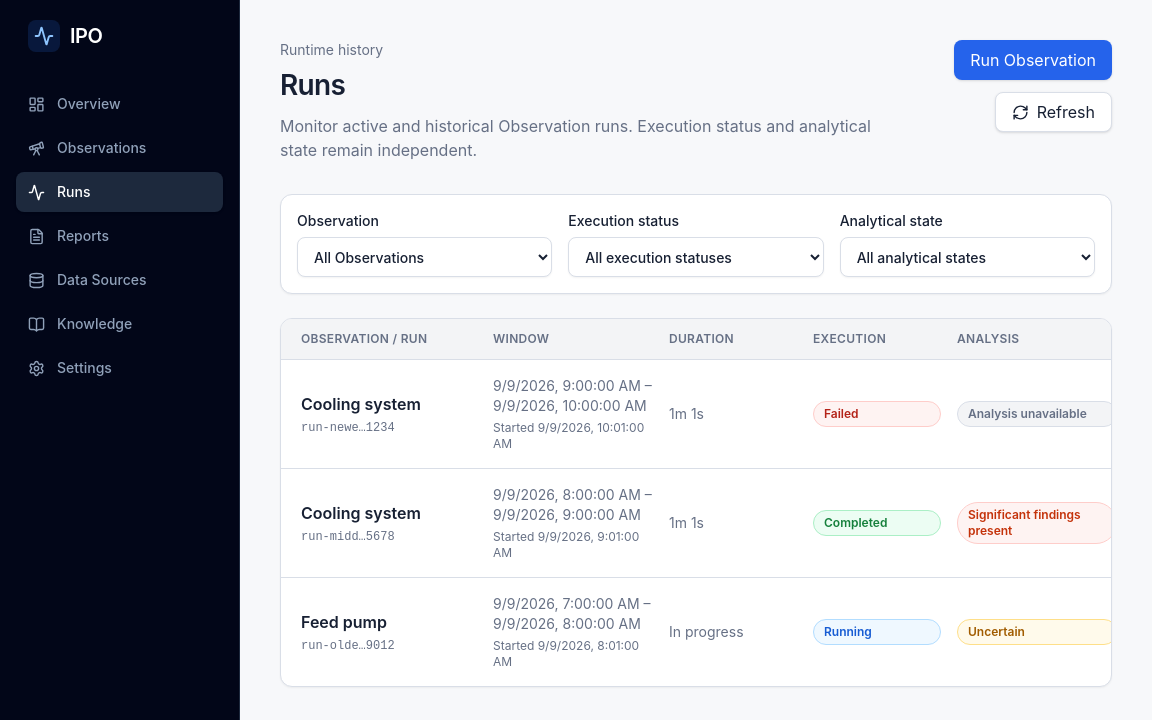
it: RunsPage › combines all filters while retaining API order and offers one clear-all action
Expected: the list named "Observation runs" is shown, [281,360,1111,686]
Select "Cooling system" in the dropdown named "Filter by Observation". click: (425, 257)
box: [297,237,552,277]
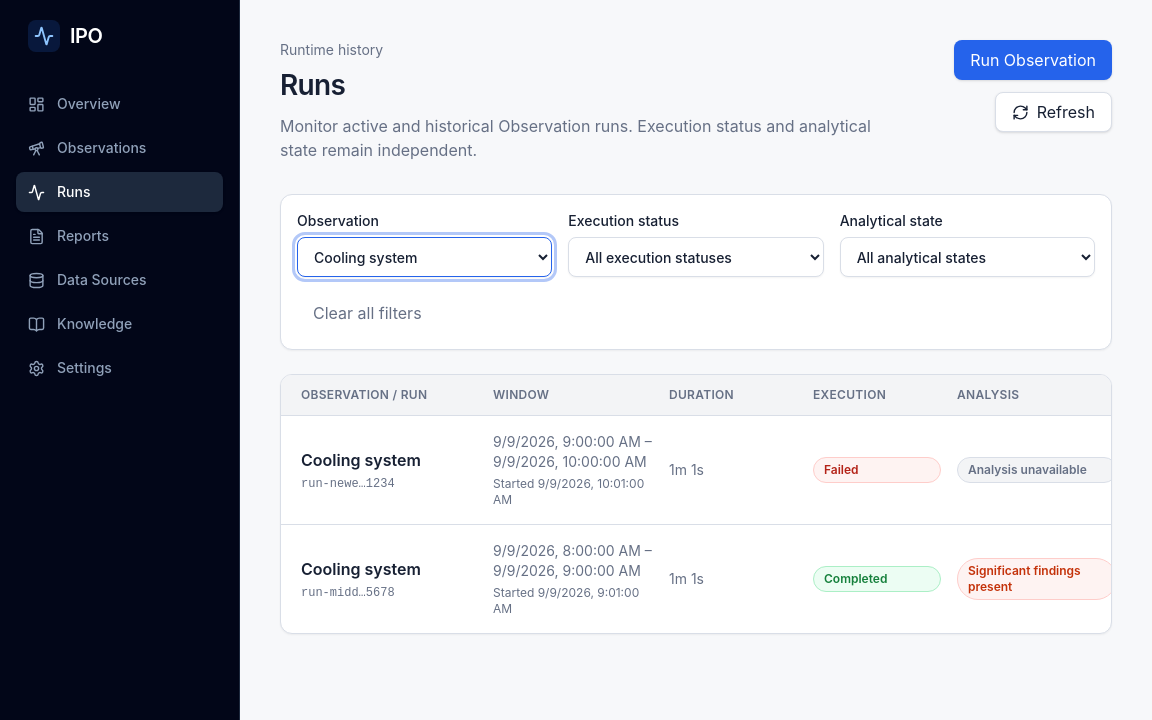
Select "Failed" in the dropdown named "Filter by execution status". click: (696, 257)
box: [568,237,824,277]
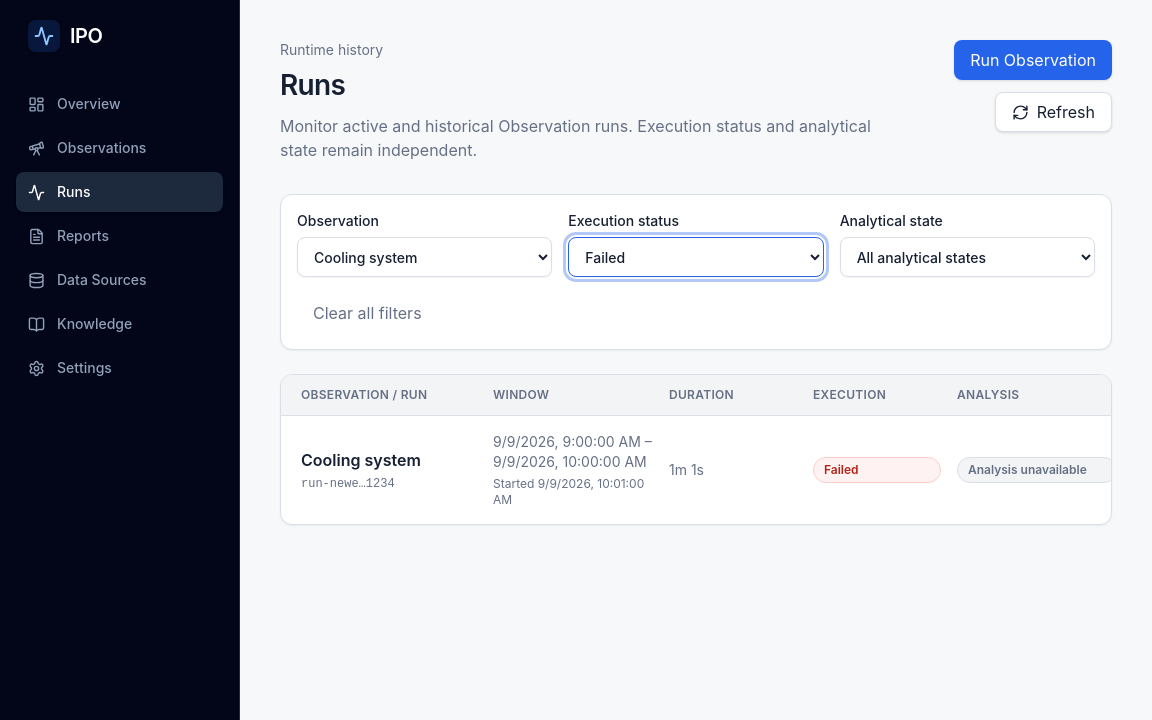
Select "Analysis unavailable" in the dropdown named "Filter by analytical state". click: (967, 257)
box: [840,237,1095,277]
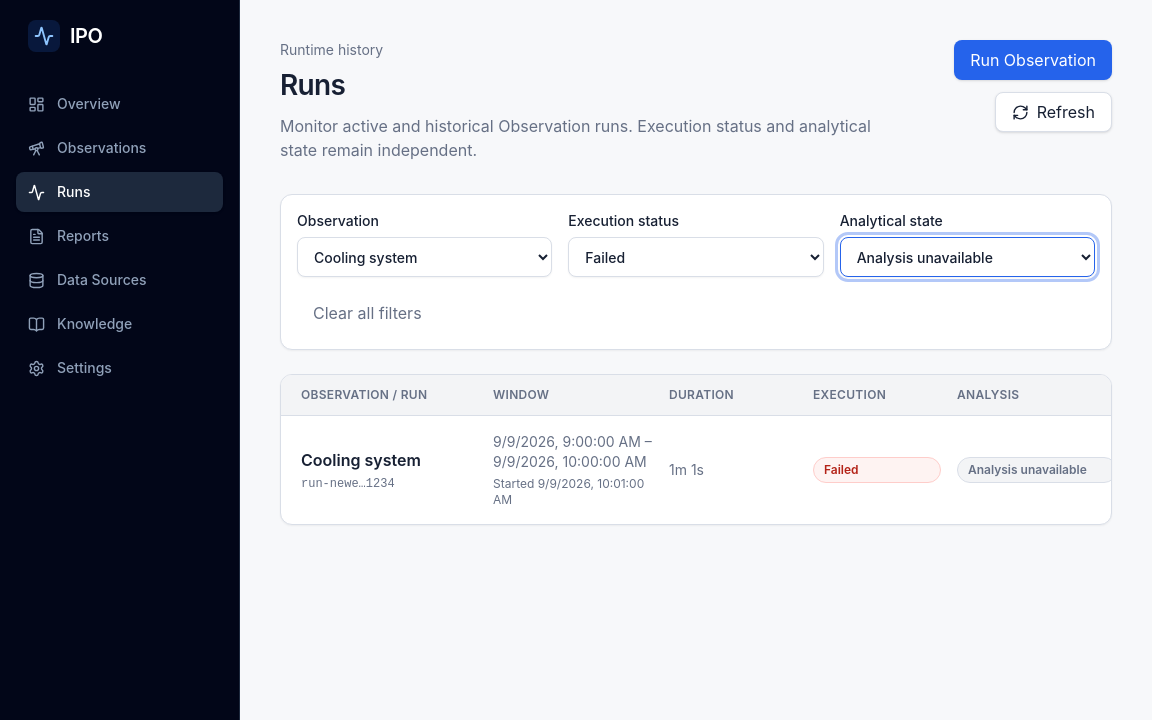
Expected: the text named "Run ID: run-newest-1234" is shown, [301,477,395,491]
Expected: the button "Clear all filters" is shown
Click the button "Clear all filters". click: (367, 313)
box: [297,293,438,333]
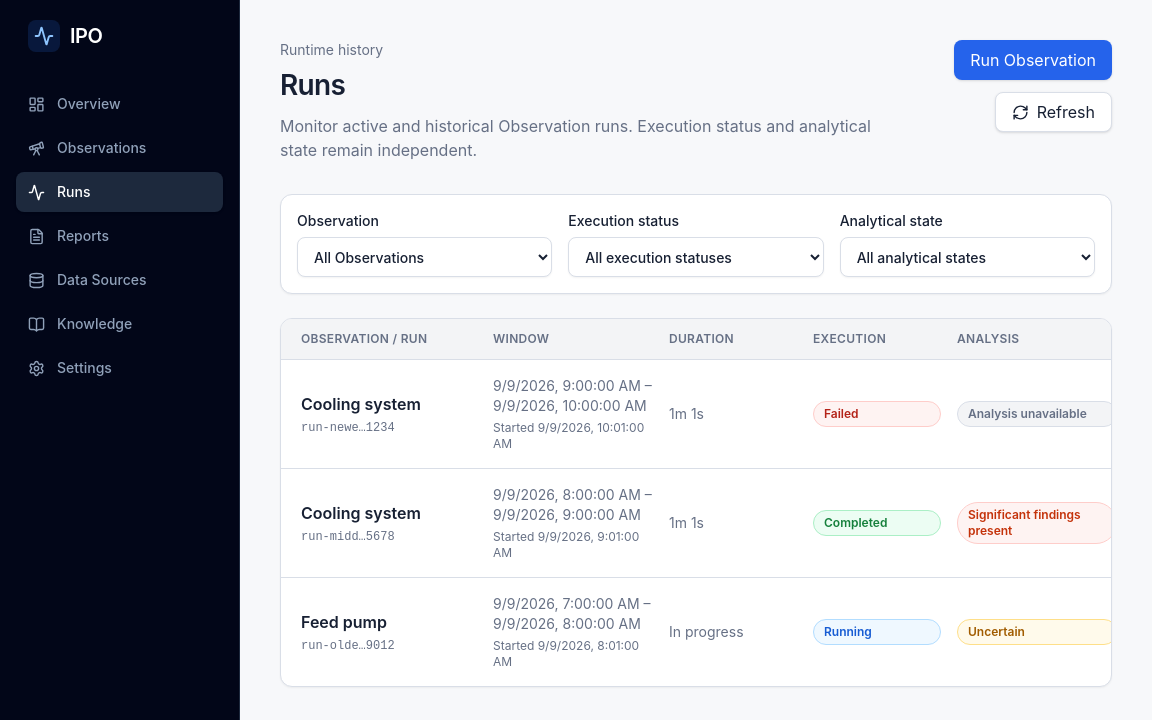
Expected: the text named "Run ID: run-oldest-9012" is shown, [301,639,395,653]
